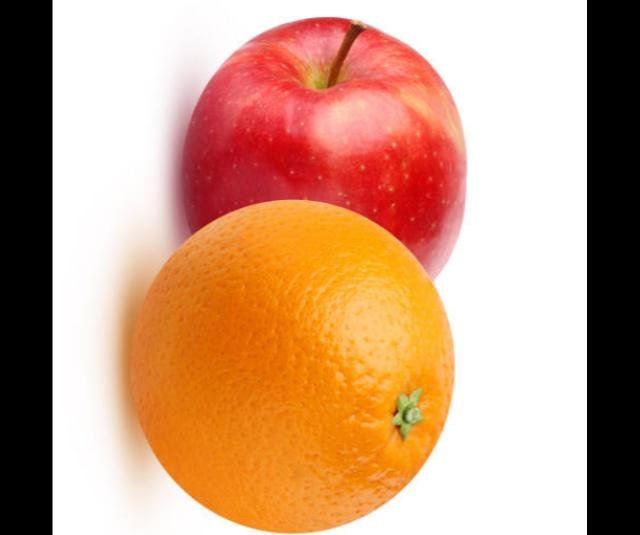Apples: (185, 15, 468, 276)
Oranges: (130, 200, 454, 532)
